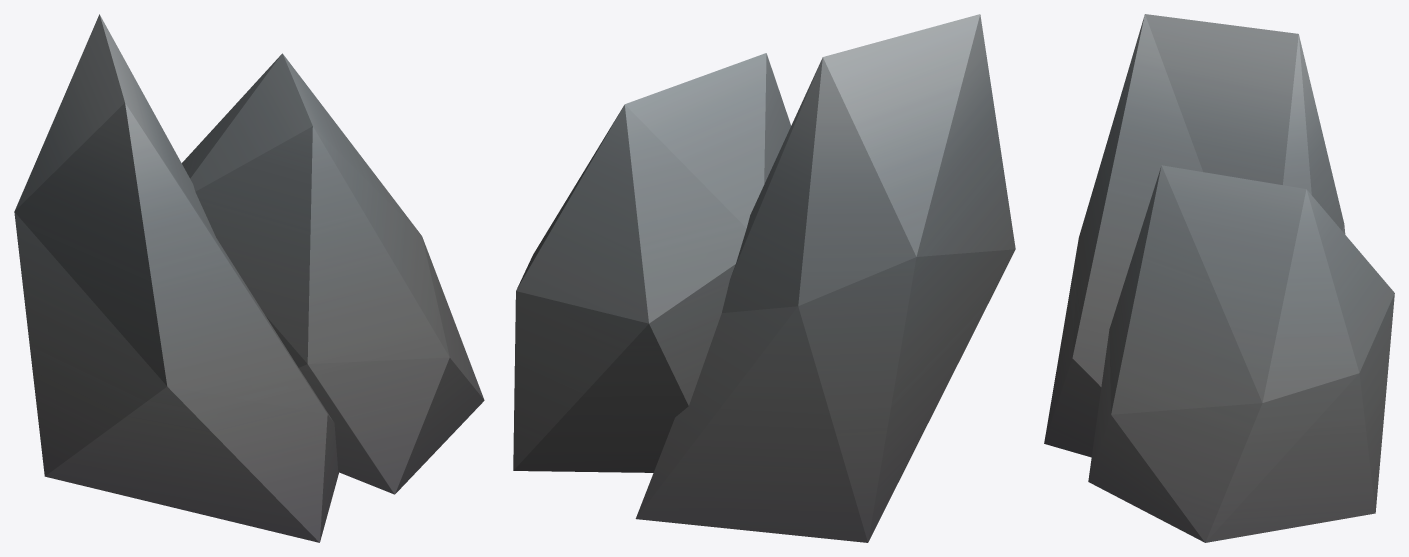
File: Gradient_Rock_05.glb
The picture shows the model from 3 angles, left to right: view 1: azimuth 30°, elevation 25°; view 2: azimuth 150°, elevation 25°; view 3: azimuth 270°, elevation 25°; orthographic projection. The views are drawn at different scales.
Parts seen in each view (by area): view 1: Rock 05 g; view 2: Rock 05 g; view 3: Rock 05 g.
Part boxes in pixels (bbox=[...]): Rock 05 g: bbox=[14, 14, 484, 542]; Rock 05 g: bbox=[513, 14, 1015, 542]; Rock 05 g: bbox=[1044, 14, 1394, 542].
Size of the model in its own units: 2.64 by 2.74 by 2.22.
1 material, 1 textured.
